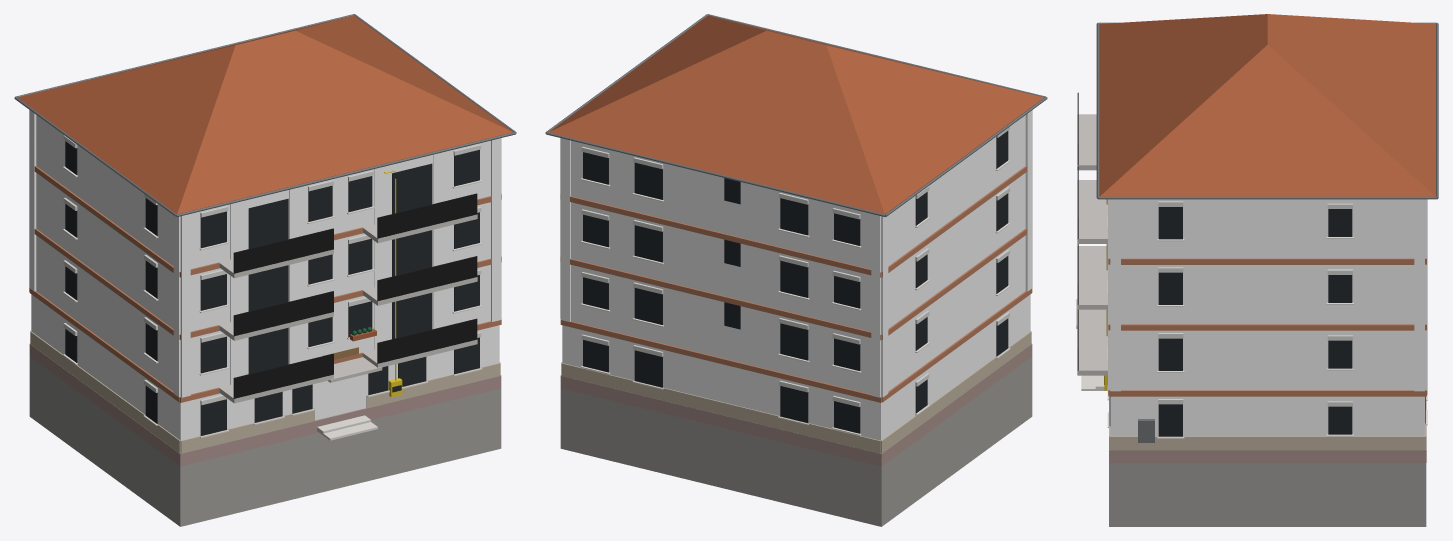
File: bina_08.glb
3 views of the same model, side by side, from view 1: azimuth 30°, elevation 25°; view 2: azimuth 150°, elevation 25°; view 3: azimuth 270°, elevation 25° (orthographic). The views are drawn at different scales.
Parts seen in each view (by area): view 1: P08_Apt_Konut_C_L1.001; view 2: P08_Apt_Konut_C_L1.001; view 3: P08_Apt_Konut_C_L1.001.
Part boxes in pixels (bbox=[...]): P08_Apt_Konut_C_L1.001: bbox=[14, 14, 516, 526]; P08_Apt_Konut_C_L1.001: bbox=[545, 14, 1047, 526]; P08_Apt_Konut_C_L1.001: bbox=[1076, 14, 1438, 526].
Size of the model in its own units: 17.12 by 18.92 by 14.96.
